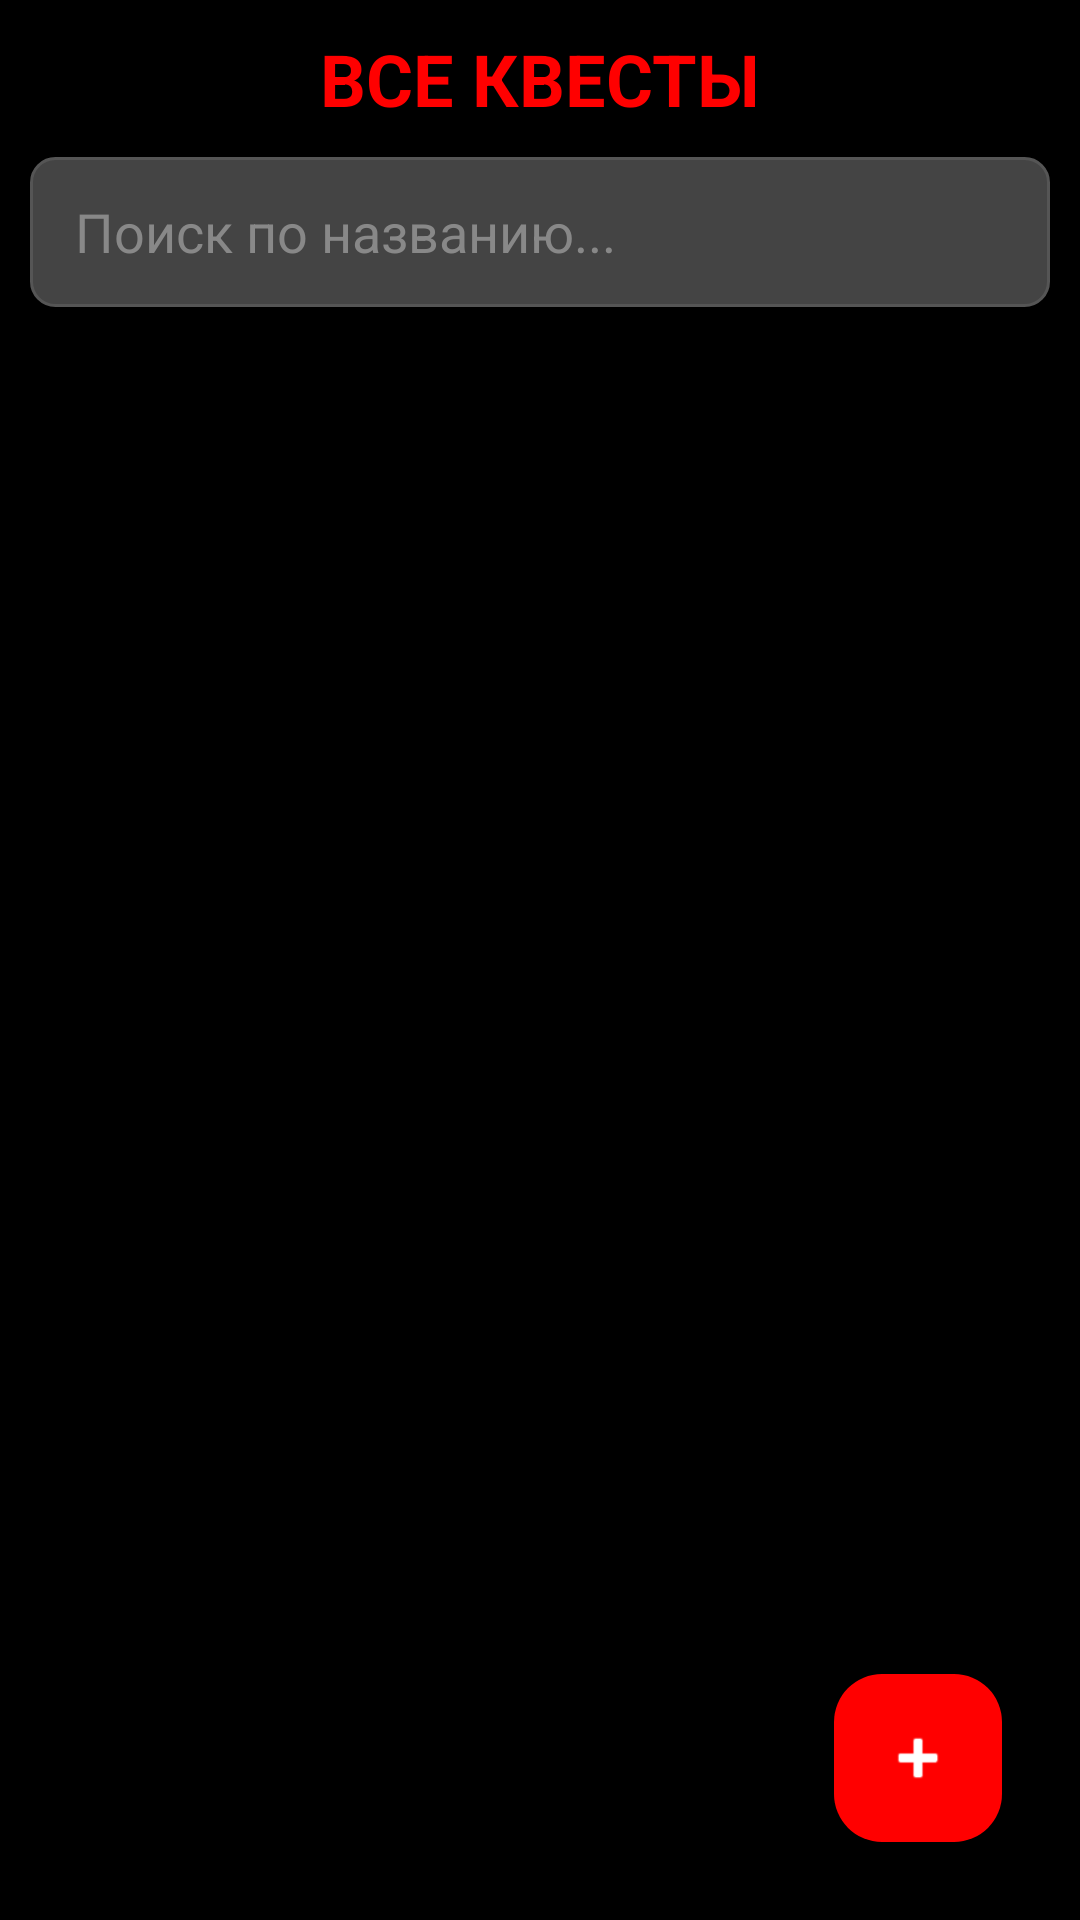

Where to tap for icons on this 1080 x 1920 app screen, as point (x, y):
Добавить новый квест: point (918, 1758)
